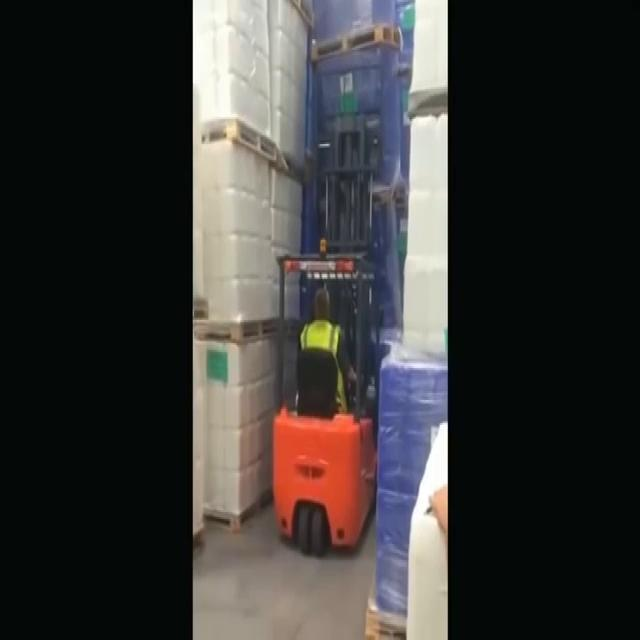forklift: (267, 244, 383, 566)
